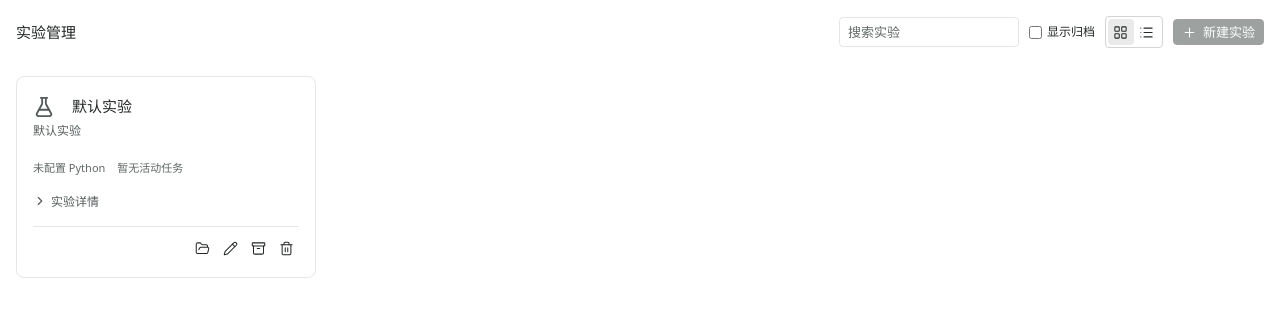
prevents removing an experiment with a running chat while other experiments stay editable
The image size is (1280, 316).
Click the button named "移除实验" at (286, 248), box [273,235,299,261]
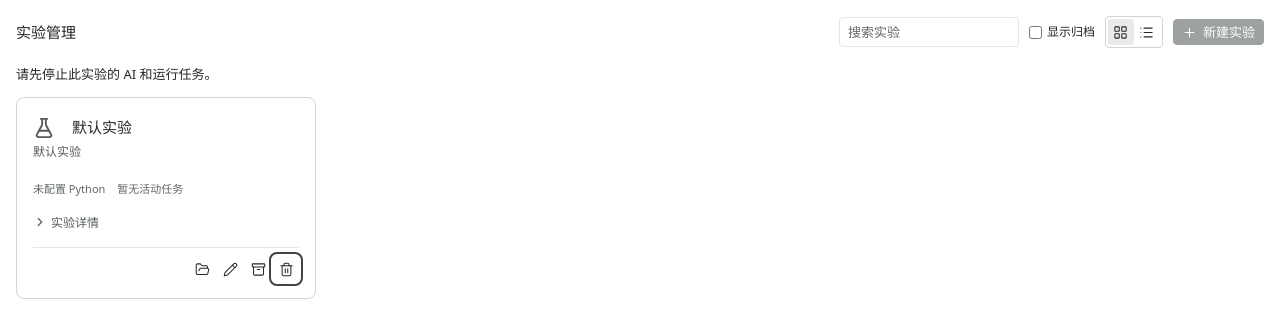
Result: the message shows "请先停止" at [16,65,218,83]
